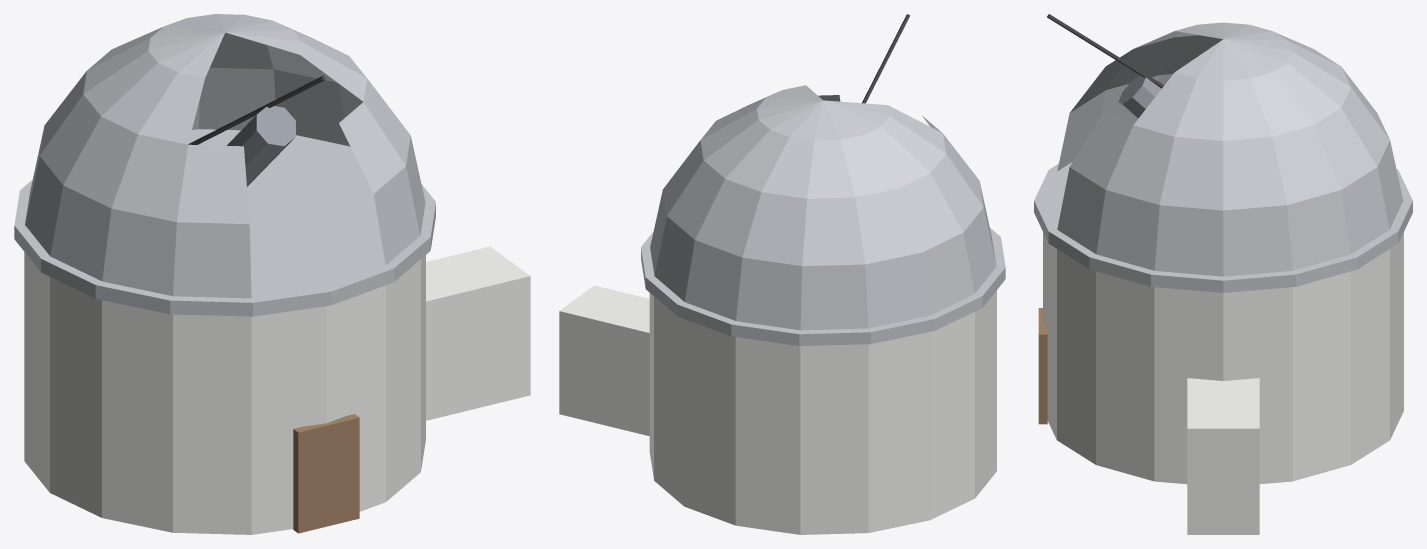
Rendered from observatory.glb.
3 renders of one model, left to right at view 1: azimuth 30°, elevation 25°; view 2: azimuth 150°, elevation 25°; view 3: azimuth 270°, elevation 25°, orthographic. The views are drawn at different scales.
Visible parts, largest first — view 1: observatory, cupola; view 2: observatory, cupola; view 3: observatory, cupola.
Part boxes in pixels (x1,y1,x2,y2): observatory: (14,129,530,534); cupola: (25,14,425,298); observatory: (559,228,1005,534); cupola: (650,14,996,330); observatory: (1034,162,1412,534); cupola: (1047,14,1403,276).
Size of the model in its own units: 10.7 by 9.72 by 8.4.
